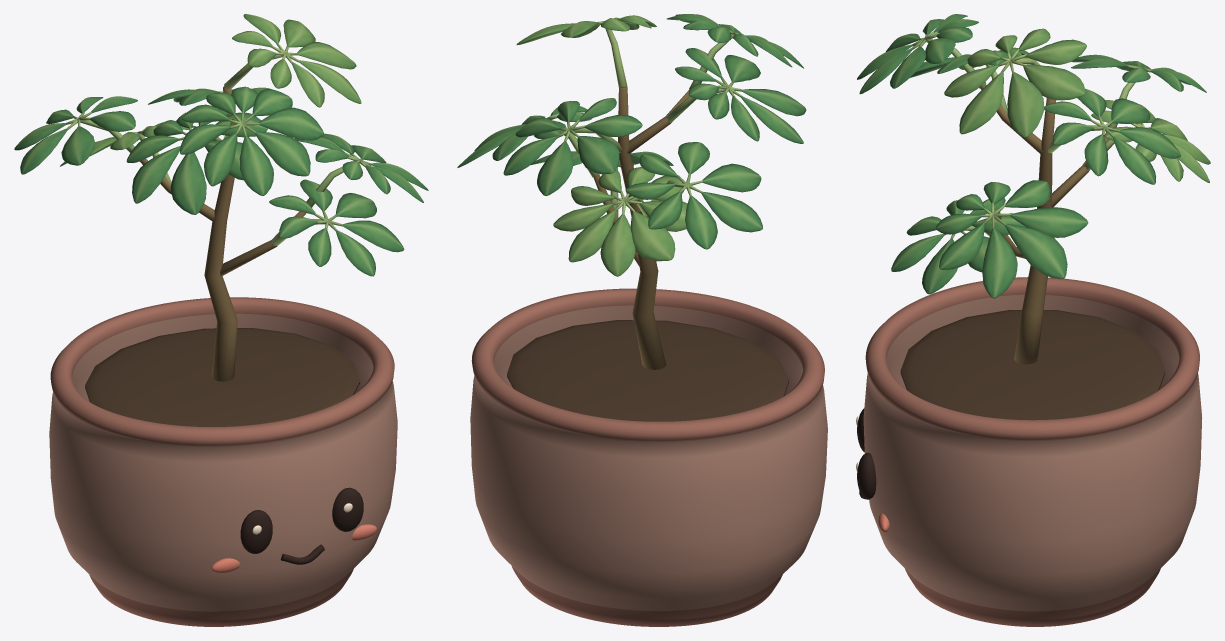
The model's file is dwarf-umbrella-tree-v1.glb.
3 views of the same model, side by side, from view 1: azimuth 30°, elevation 25°; view 2: azimuth 150°, elevation 25°; view 3: azimuth 270°, elevation 25° (orthographic). The views are drawn at different scales.
Visible parts, largest first — view 1: Wheel-thrown ceramic, Foliage draw mesh, Soil, Eye, Eye.001; view 2: Wheel-thrown ceramic, Foliage draw mesh, Soil; view 3: Wheel-thrown ceramic, Foliage draw mesh, Soil, Eye.001.
Boxes of the visible parts, x1,y1,x2,y2 form: Wheel-thrown ceramic: (49,297,397,626); Foliage draw mesh: (14,14,428,381); Soil: (85,328,359,426); Eye: (240,510,272,553); Eye.001: (332,487,363,531); Wheel-thrown ceramic: (470,288,827,626); Foliage draw mesh: (457,14,806,369); Soil: (507,320,789,421); Wheel-thrown ceramic: (863,277,1202,626); Foliage draw mesh: (857,14,1210,364); Soil: (900,310,1165,420); Eye.001: (857,452,876,499).
Size of the model in its own units: 1.81 by 2.71 by 1.57.
